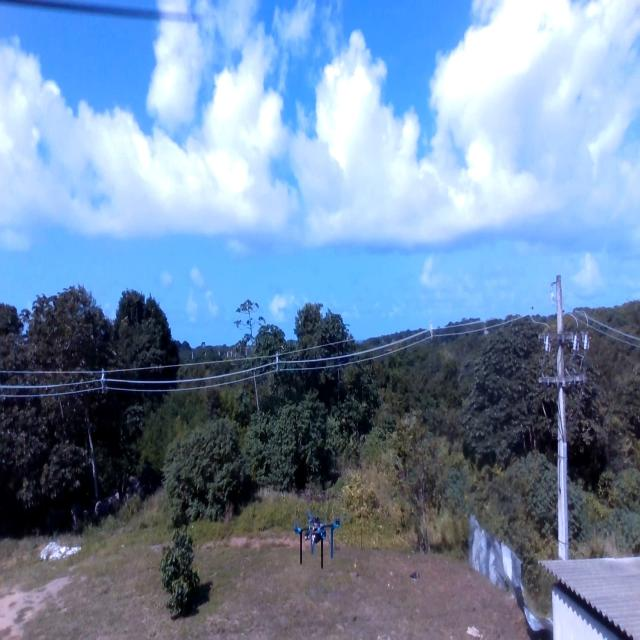-uav-: (287, 501, 344, 568)
